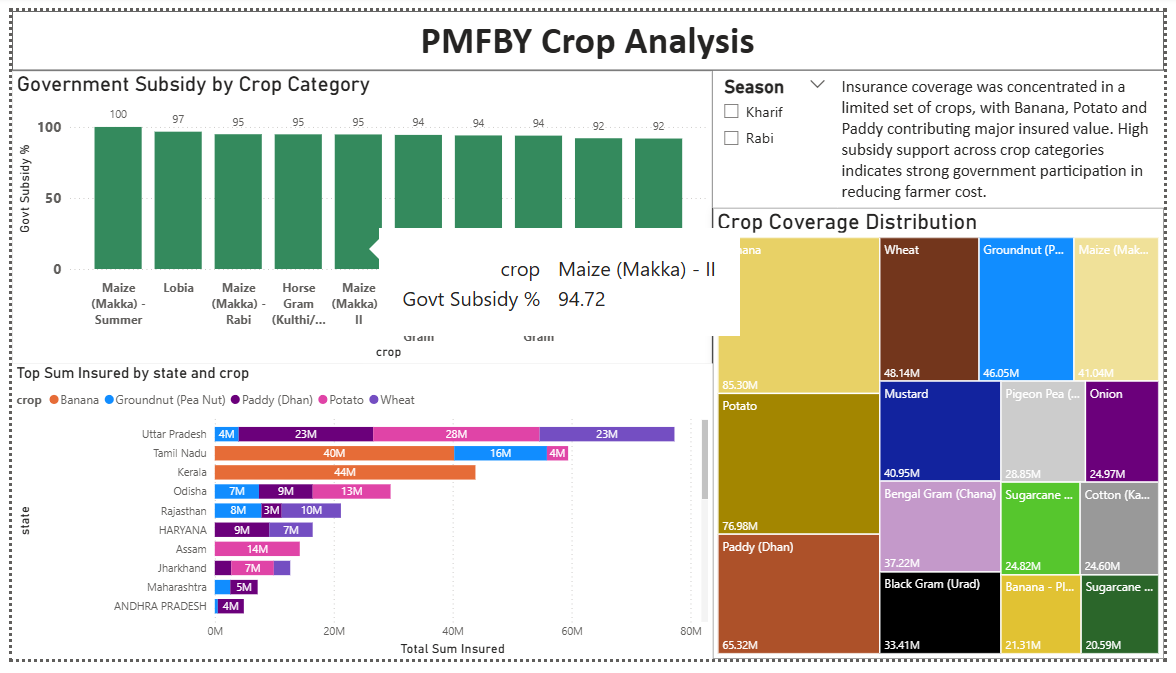

The page's visual inventory and layout, read from the dashboard file:
{"tool":"powerbi","page":{"name":"Crop Analysis","canvas":[1280,720],"ordinal":3},"visuals":[{"type":"clusteredColumnChart","title":"Government Subsidy by Crop Category","fields":{"Category":["PMFBY_crop_insurance_analytics_dashboard.crop"],"Y":["PMFBY_crop_insurance_analytics_dashboard.Govt Subsidy %"]},"box":[0,66.7,778.3,325],"z":0},{"type":"treemap","title":"Crop Coverage Distribution","fields":{"Group":["PMFBY_crop_insurance_analytics_dashboard.crop"],"Values":["PMFBY_crop_insurance_analytics_dashboard.Total Sum Insured"]},"box":[778.3,218.3,501.7,501.7],"z":1000},{"type":"slicer","fields":{"Values":["PMFBY_crop_insurance_analytics_dashboard.season"]},"box":[778.3,66.7,138.3,151.7],"z":2000},{"type":"textbox","box":[0,0,1280,66],"z":3000},{"type":"barChart","title":"Top Sum Insured by state and crop","fields":{"Series":["PMFBY_crop_insurance_analytics_dashboard.crop"],"Y":["PMFBY_crop_insurance_analytics_dashboard.Total Sum Insured"],"Category":["PMFBY_crop_insurance_analytics_dashboard.state"]},"box":[0,391.2,778.6,328.8],"z":4000},{"type":"textbox","box":[916.7,66.7,363.3,151.7],"z":5000}]}

Visuals, with their boxes in screenshot pixels (x1, y1, x2, y2), scaled from the page's 1280x720 canvas onto the 1176x673 screenshot:
"Government Subsidy by Crop Category" clusteredColumnChart: (left=0, top=62, right=715, bottom=366)
"Crop Coverage Distribution" treemap: (left=715, top=204, right=1175, bottom=672)
slicer - PMFBY_crop_insurance_analytics_dashboard.season: (left=715, top=62, right=842, bottom=204)
textbox: (left=0, top=0, right=1175, bottom=62)
"Top Sum Insured by state and crop" barChart: (left=0, top=366, right=715, bottom=672)
textbox: (left=842, top=62, right=1175, bottom=204)
